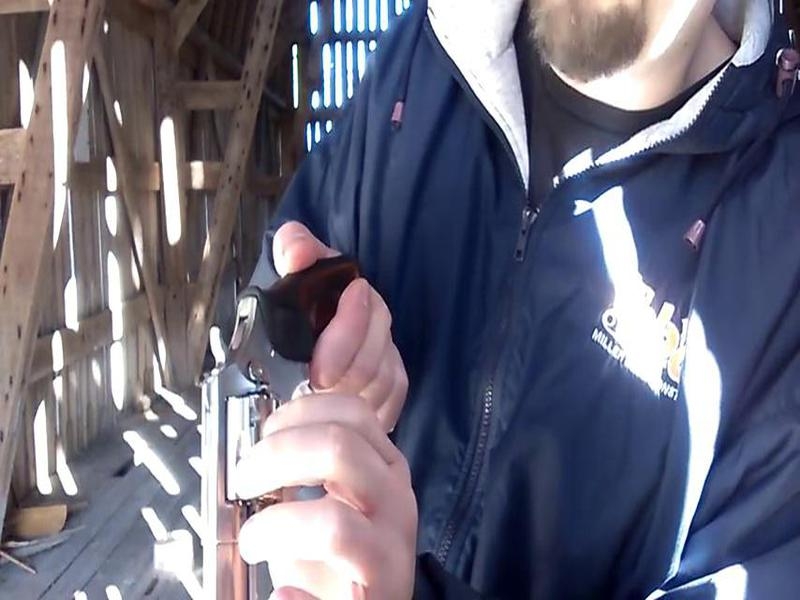Revolver: (156, 238, 391, 600)
